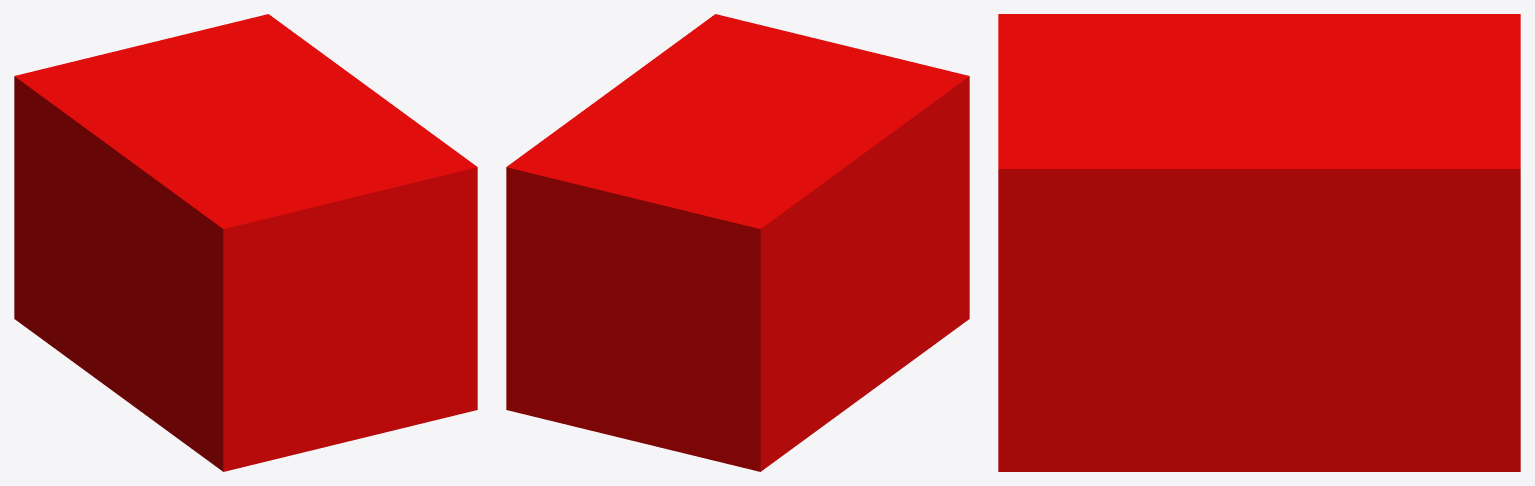
The model's file is pelvis_lvR_col.dae.
3 views of the same model, side by side, from view 1: azimuth 30°, elevation 25°; view 2: azimuth 150°, elevation 25°; view 3: azimuth 270°, elevation 25° (orthographic). The views are drawn at different scales.
Visible parts, largest first — view 1: node0; view 2: node0; view 3: node0.
Part boxes in pixels (left/top/right/bottom): node0: left=14, top=14, right=477, bottom=471; node0: left=506, top=14, right=969, bottom=471; node0: left=998, top=14, right=1520, bottom=471.
Bounding box in the file's own units: 0.1446 × 0.132 × 0.2061.
